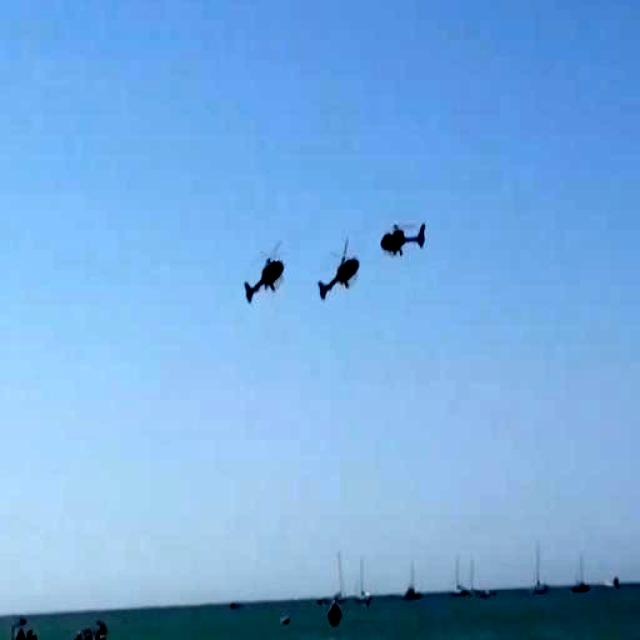drone: (369, 199, 426, 270), (241, 240, 296, 312), (310, 246, 361, 308)
